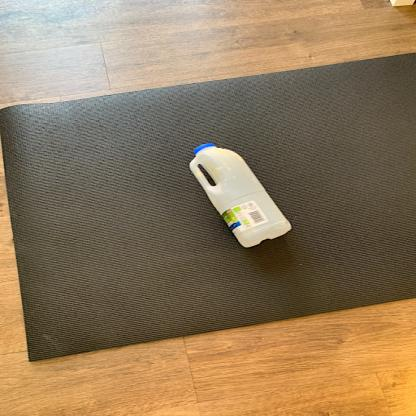trash: (185, 141, 295, 250)
